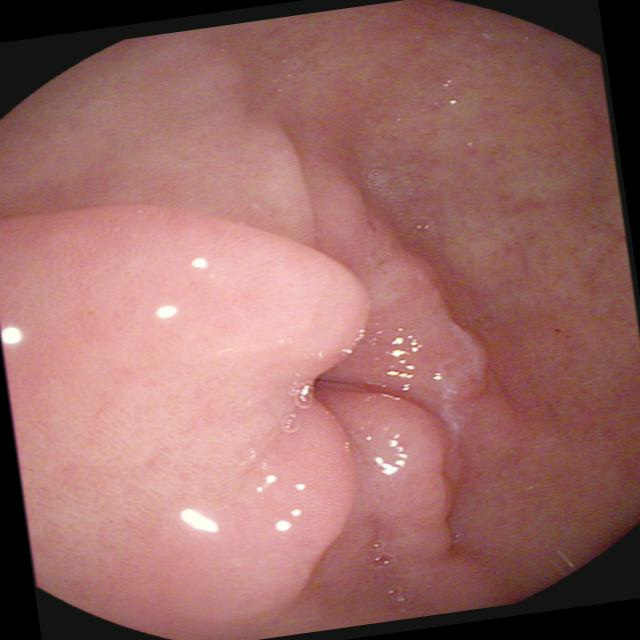normal-pylorus: (0, 132, 527, 640)
